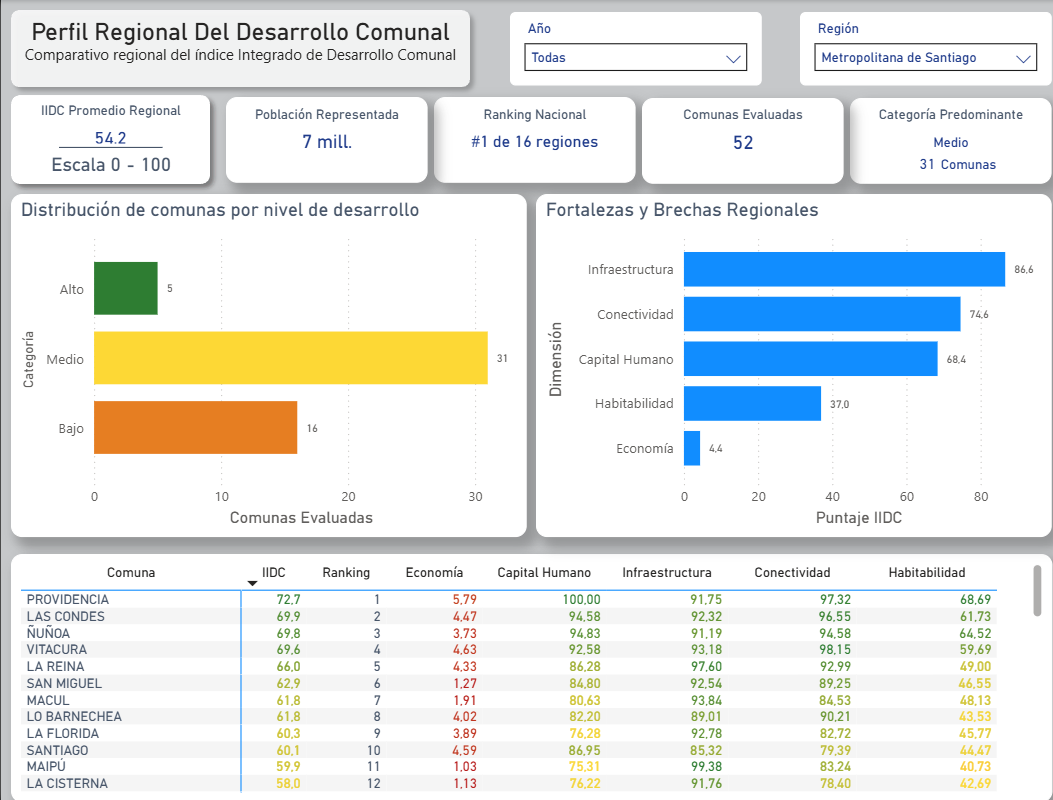

The dashboard page shown, as its layout file describes it:
{"tool":"powerbi","page":{"name":"Radiografía Regional","canvas":[950,720],"ordinal":1},"visuals":[{"type":"shape","box":[0,76.3,196.6,97.9],"z":0},{"type":"shape","box":[0,0,430,87.1],"z":1000},{"type":"textbox","box":[0,10.8,430,65.5],"z":2000},{"type":"slicer","fields":{"Values":["dim_año.Año"]},"box":[457,10.8,226.2,65.5],"z":3000},{"type":"slicer","fields":{"Values":["dim_comuna.nombre_region"]},"box":[717.3,10.8,226.2,65.5],"z":4000},{"type":"cardVisual","fields":{"Data":["Medidas.Ranking Nacional Región Texto"]},"box":[388.7,87.1,181.3,77.2],"z":5000},{"type":"cardVisual","fields":{"Data":["Medidas.Categoría Predominante Región"]},"box":[762.2,88,181.3,77.2],"z":6000},{"type":"cardVisual","fields":{"Data":["Medidas.Población Total"]},"box":[202,87.1,181.3,77.2],"z":7000},{"type":"cardVisual","fields":{"Data":["Medidas.Cantidad de comunas"]},"box":[575.5,88,181.3,77.2],"z":8000},{"type":"clusteredBarChart","title":"Distribución de comunas por nivel de desarrollo","fields":{"Category":["dim_categoría.categoria_iidc"],"Y":["Medidas.Comunas Evaluadas"]},"box":[9,174.2,463,307.9],"z":9000},{"type":"pivotTable","fields":{"Rows":["dim_comuna.nombre_comuna"],"Values":["Sum(MART_IIDC.iidc)","Medidas.Ranking Comunal Regional","Sum(MART_IIDC.score_economico)","Sum(MART_IIDC.score_capital_humano)","Sum(MART_IIDC.score_infraestructura)","Sum(MART_IIDC.score_conectividad)","Sum(MART_IIDC.score_habitabilidad)"]},"box":[9,497.4,934.6,222.6],"z":10000},{"type":"textbox","box":[220,88,145.4,26.9],"z":11000},{"type":"textbox","box":[593.4,88,145.4,26.9],"z":12000},{"type":"textbox","box":[26,84.4,145.4,26.9],"z":13000},{"type":"textbox","box":[406.7,88,145.4,26.9],"z":14000},{"type":"textbox","box":[762.2,88,181.3,26.9],"z":15000},{"type":"shape","box":[52.1,126.6,93.4,12.6],"z":16000},{"type":"textbox","box":[34.1,132.9,129.3,28.7],"z":17000},{"type":"cardVisual","fields":{"Data":["Medidas.IIDC Promedio"]},"box":[34.1,97.9,128.4,48.5],"z":18000},{"type":"cardVisual","fields":{"Data":["Medidas.Cantidad Categoría Predominante Región"]},"box":[788.2,122.1,88,48.5],"z":19000},{"type":"textbox","box":[832.2,132.9,72.7,26.9],"z":20000},{"type":"clusteredBarChart","title":"Fortalezas y Brechas Regionales","fields":{"Category":["DIM_IIDC_DIMENSION.Dimension"],"Y":["Medidas.Score Dimensión Seleccionada"]},"box":[480.3,174.2,463.2,307.9],"z":22000}]}

Visuals, with their boxes in screenshot pixels (x1, y1, x2, y2), scaled from the page's 950x720 canvas onto the 1053x800 screenshot:
shape: [0,85,218,194]
shape: [0,0,477,97]
textbox: [0,12,477,85]
slicer - dim_año.Año: [507,12,757,85]
slicer - dim_comuna.nombre_region: [795,12,1046,85]
cardVisual - Medidas.Ranking Nacional Región Texto: [431,97,632,183]
cardVisual - Medidas.Categoría Predominante Región: [845,98,1046,184]
cardVisual - Medidas.Población Total: [224,97,425,183]
cardVisual - Medidas.Cantidad de comunas: [638,98,839,184]
"Distribución de comunas por nivel de desarrollo" clusteredBarChart: [10,194,523,536]
pivotTable - dim_comuna.nombre_comuna x Sum(MART_IIDC.iidc): [10,553,1046,799]
textbox: [244,98,405,128]
textbox: [658,98,819,128]
textbox: [29,94,190,124]
textbox: [451,98,612,128]
textbox: [845,98,1046,128]
shape: [58,141,161,155]
textbox: [38,148,181,180]
cardVisual - Medidas.IIDC Promedio: [38,109,180,163]
cardVisual - Medidas.Cantidad Categoría Predominante Región: [874,136,971,190]
textbox: [922,148,1003,178]
"Fortalezas y Brechas Regionales" clusteredBarChart: [532,194,1046,536]
